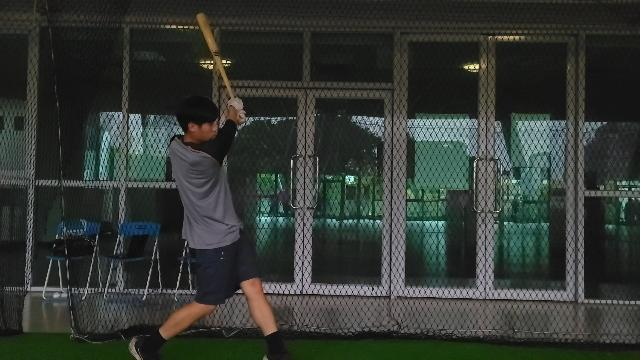bat: (196, 11, 234, 100)
